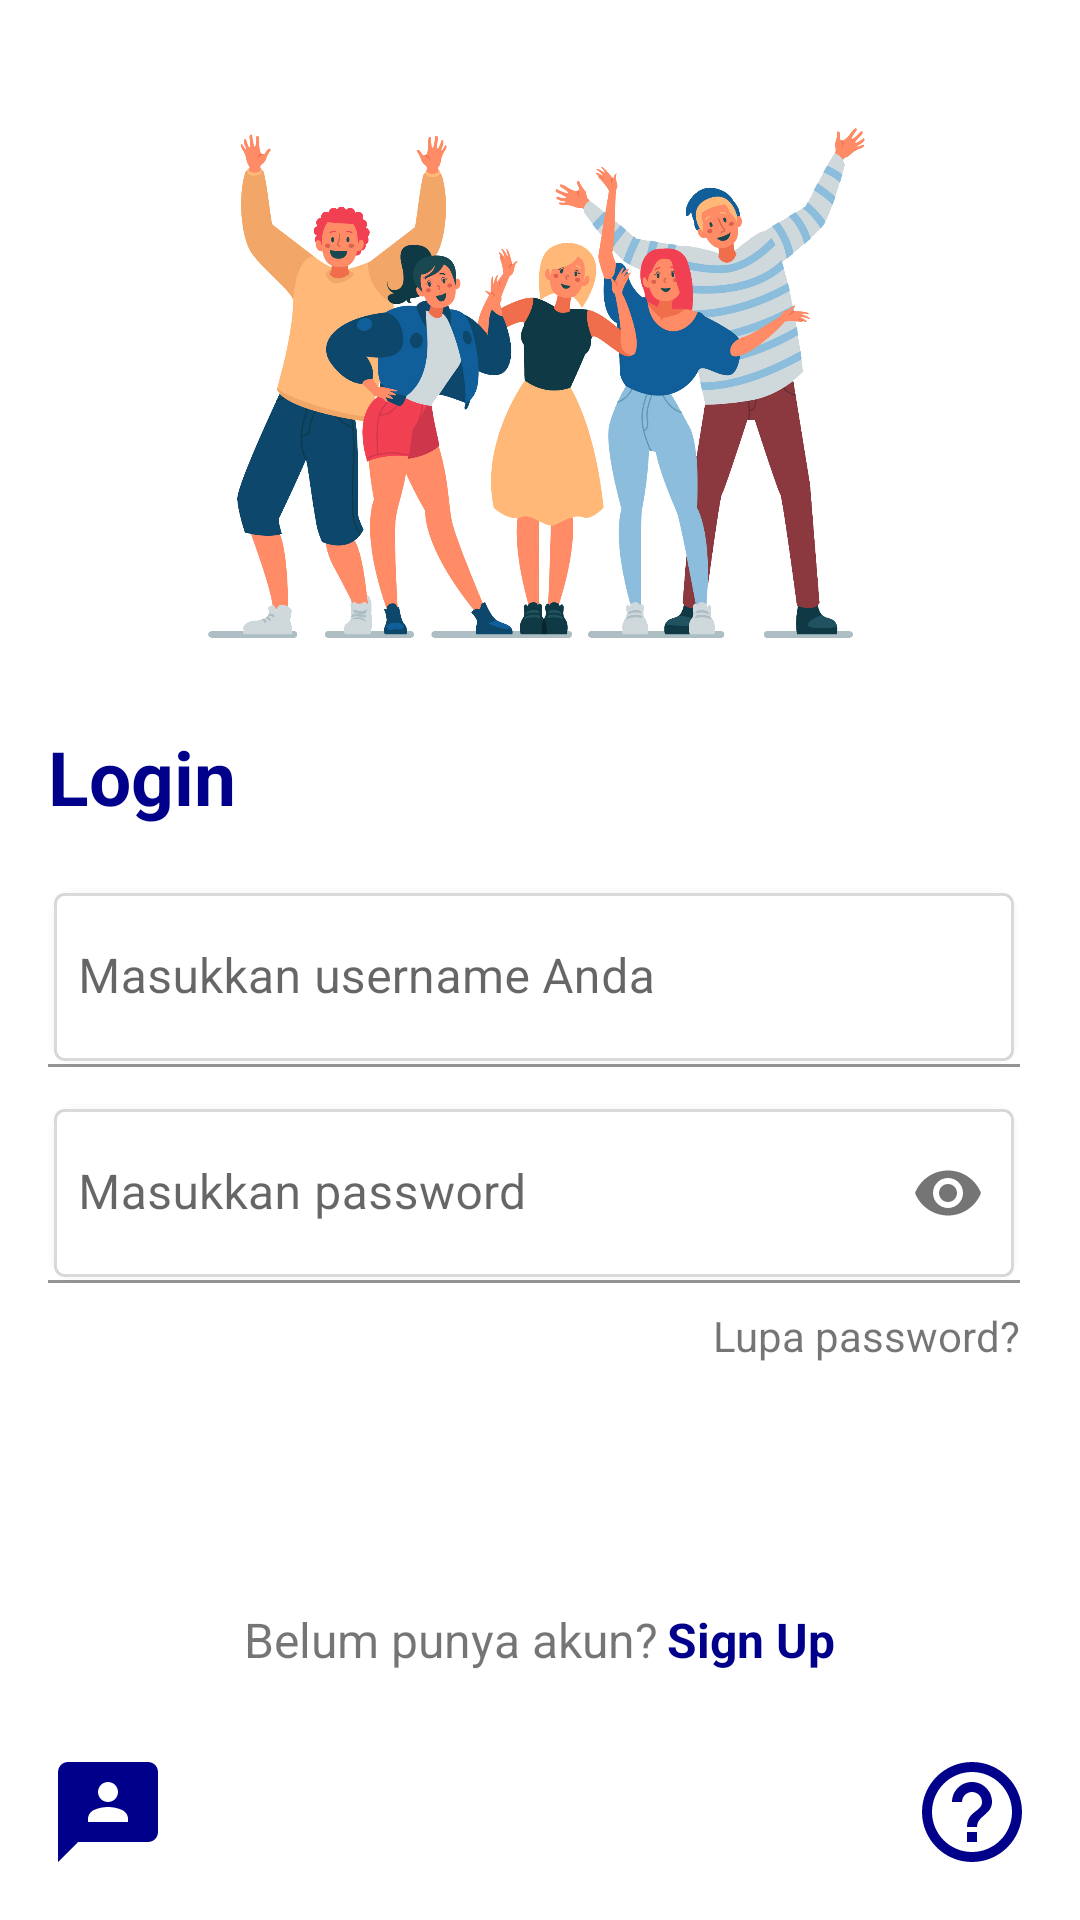

Locate icon controls on the screen. Image size 1080 x 1920, boxes as (x1, y1, x2, y2).
help: (922, 1762, 1022, 1862)
